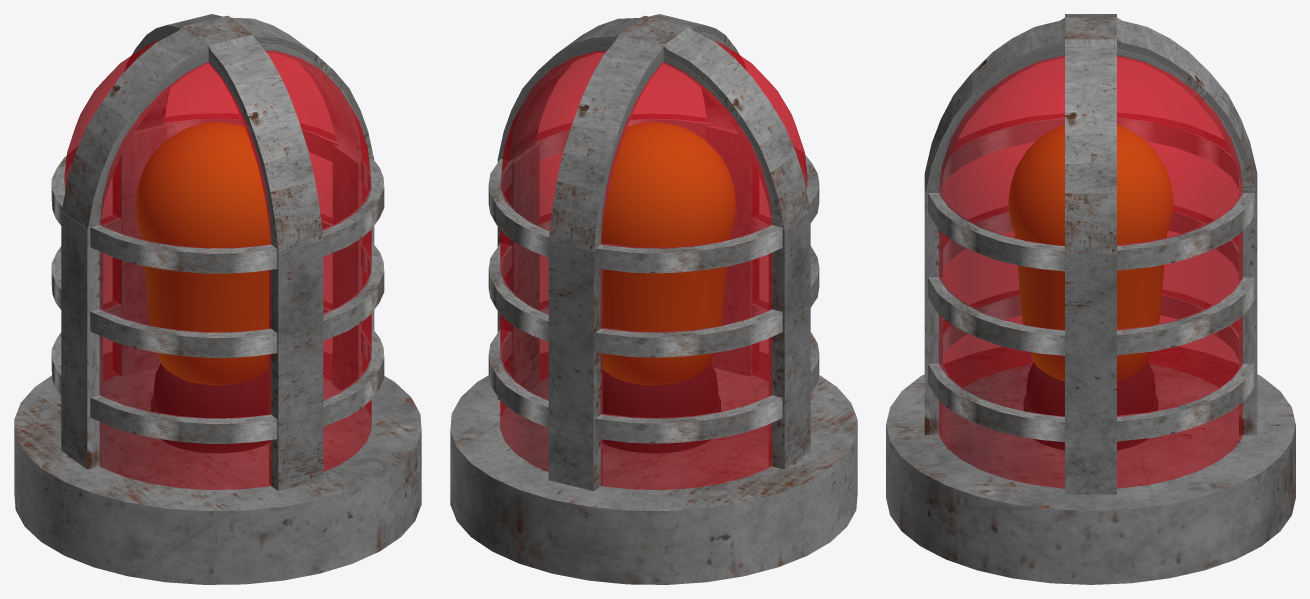
Rendered from alarma.glb.
3 views of the same model, side by side, from view 1: azimuth 30°, elevation 25°; view 2: azimuth 150°, elevation 25°; view 3: azimuth 270°, elevation 25° (orthographic).
Visible parts, largest first — view 1: Base, Glass Cylinder, Glass Sphere, Lamp, Base1, Base4Round.003, Base4Round.001, Base2, Base3, Base4, Round1Bottom, Round1Middle (+13 smaller); view 2: Base, Glass Cylinder, Glass Sphere, Lamp, Base3, Base4Round.002, Base4Round.001, Base2, Base1, Base4, Round2Middle, Round2Bottom (+13 smaller); view 3: Base, Glass Cylinder, Glass Sphere, Lamp, Base4, Base4Round, Base4Round.003, Base4Round.002, Round3Bottom, Round3Middle, Round3Up, Round4Middle (+12 smaller).
Boxes of the visible parts, left/top/right/bottom form: Base: left=14, top=352, right=421, bottom=584; Glass Cylinder: left=99, top=153, right=371, bottom=489; Glass Sphere: left=64, top=41, right=371, bottom=248; Lamp: left=136, top=122, right=270, bottom=384; Base1: left=269, top=240, right=323, bottom=491; Base4Round.003: left=208, top=34, right=323, bottom=251; Base4Round.001: left=61, top=26, right=208, bottom=230; Base2: left=61, top=211, right=102, bottom=469; Base3: left=113, top=125, right=166, bottom=376; Base4: left=333, top=145, right=374, bottom=400; Round1Bottom: left=90, top=395, right=277, bottom=443; Round1Middle: left=90, top=309, right=277, bottom=357; Base: left=450, top=352, right=857, bottom=584; Glass Cylinder: left=500, top=152, right=772, bottom=489; Glass Sphere: left=500, top=41, right=807, bottom=248; Lamp: left=601, top=122, right=735, bottom=384; Base3: left=548, top=240, right=602, bottom=491; Base4Round.002: left=549, top=34, right=663, bottom=251; Base4Round.001: left=663, top=26, right=810, bottom=229; Base2: left=769, top=211, right=810, bottom=469; Base1: left=705, top=126, right=758, bottom=376; Base4: left=497, top=144, right=539, bottom=399; Round2Middle: left=595, top=309, right=782, bottom=357; Round2Bottom: left=595, top=395, right=782, bottom=443; Base: left=886, top=347, right=1295, bottom=584; Glass Cylinder: left=939, top=142, right=1242, bottom=488; Glass Sphere: left=939, top=55, right=1242, bottom=245; Lamp: left=1008, top=125, right=1173, bottom=380; Base4: left=1065, top=254, right=1116, bottom=494; Base4Round: left=1065, top=39, right=1116, bottom=253; Base4Round.003: left=924, top=17, right=1065, bottom=195; Base4Round.002: left=1116, top=17, right=1257, bottom=194; Round3Bottom: left=1117, top=363, right=1255, bottom=441; Round3Middle: left=1117, top=277, right=1255, bottom=355; Round3Up: left=1117, top=192, right=1255, bottom=270; Round4Middle: left=928, top=277, right=1064, bottom=355.
Size of the model in its own units: 2 by 2.53 by 2.
4 materials, 2 textured.
